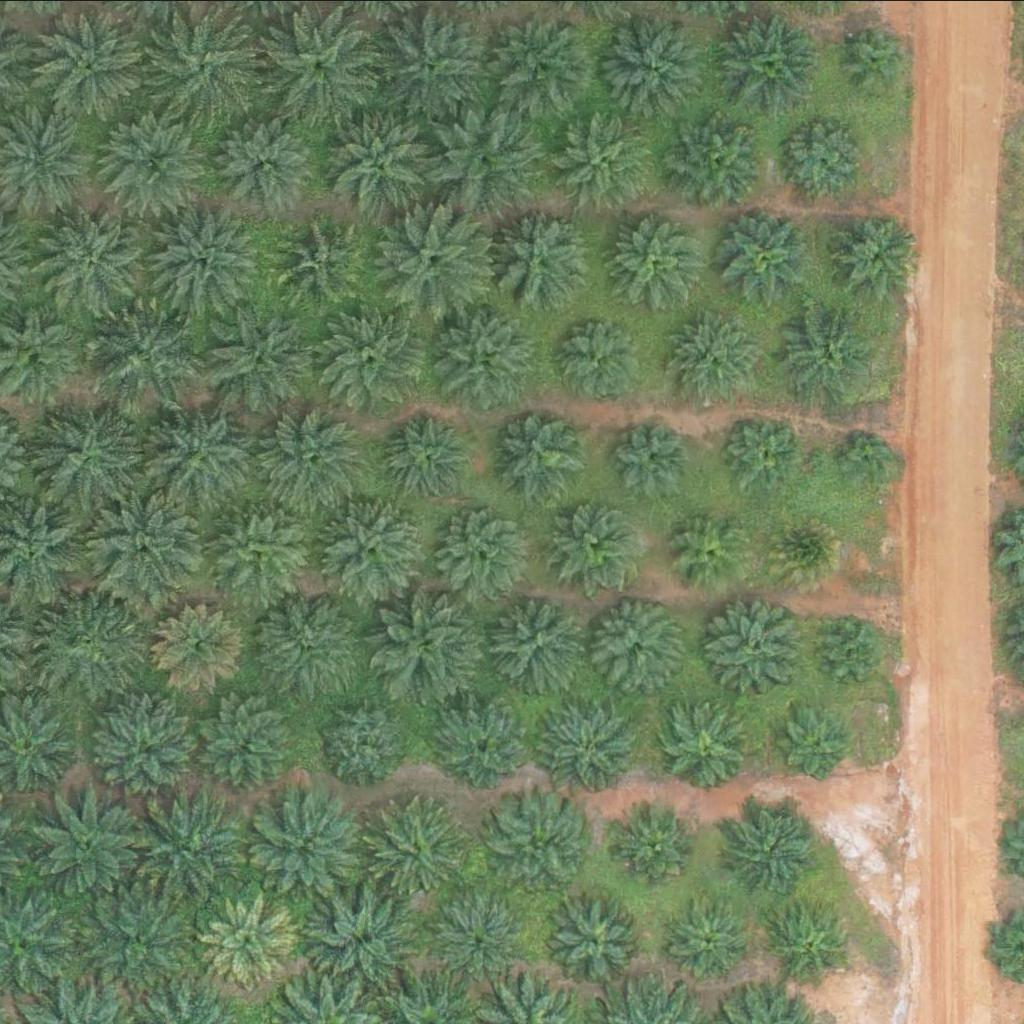Kelapa_Sawit: (87, 879, 201, 992), (32, 787, 146, 900), (255, 790, 369, 903), (90, 489, 203, 602), (40, 196, 153, 309), (99, 103, 212, 216), (266, 8, 379, 121), (371, 9, 484, 122), (320, 106, 433, 219), (143, 397, 256, 510), (130, 789, 243, 902), (37, 8, 151, 120), (304, 882, 418, 994), (35, 584, 148, 696), (29, 402, 142, 514), (89, 301, 202, 413), (146, 13, 259, 125), (427, 101, 540, 213), (376, 203, 489, 315), (315, 304, 428, 416), (143, 204, 256, 316), (202, 300, 315, 412), (378, 582, 491, 694), (492, 7, 593, 107), (600, 13, 701, 113), (722, 12, 823, 112), (549, 106, 650, 206), (666, 107, 767, 207), (491, 208, 592, 308), (607, 209, 708, 309), (435, 305, 536, 405), (257, 408, 358, 508), (208, 497, 309, 597), (194, 690, 295, 790), (254, 588, 355, 688), (722, 795, 823, 895), (94, 698, 194, 798), (824, 206, 924, 306), (774, 300, 874, 400), (320, 498, 420, 598), (431, 500, 531, 600), (370, 796, 470, 896), (502, 792, 602, 892), (588, 590, 688, 690), (706, 594, 806, 694), (277, 217, 366, 305), (764, 897, 853, 985), (780, 113, 868, 201), (551, 499, 639, 587), (155, 602, 243, 690), (434, 899, 522, 987), (551, 897, 639, 985), (491, 596, 579, 684), (612, 795, 700, 883), (663, 894, 751, 982), (720, 209, 808, 296), (551, 315, 639, 402), (663, 313, 751, 400), (381, 416, 469, 503), (500, 410, 588, 497), (220, 117, 308, 204), (200, 896, 288, 983), (322, 695, 410, 782), (440, 694, 528, 781), (546, 703, 634, 790), (665, 697, 753, 784), (676, 512, 752, 587), (615, 422, 691, 497), (839, 20, 915, 95), (724, 415, 800, 490), (765, 511, 841, 586), (814, 613, 890, 688), (773, 703, 848, 778), (837, 426, 900, 488)
